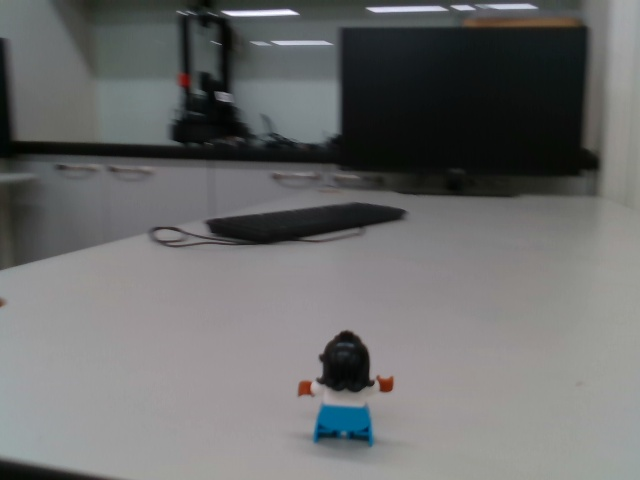people: (295, 328, 397, 451)
